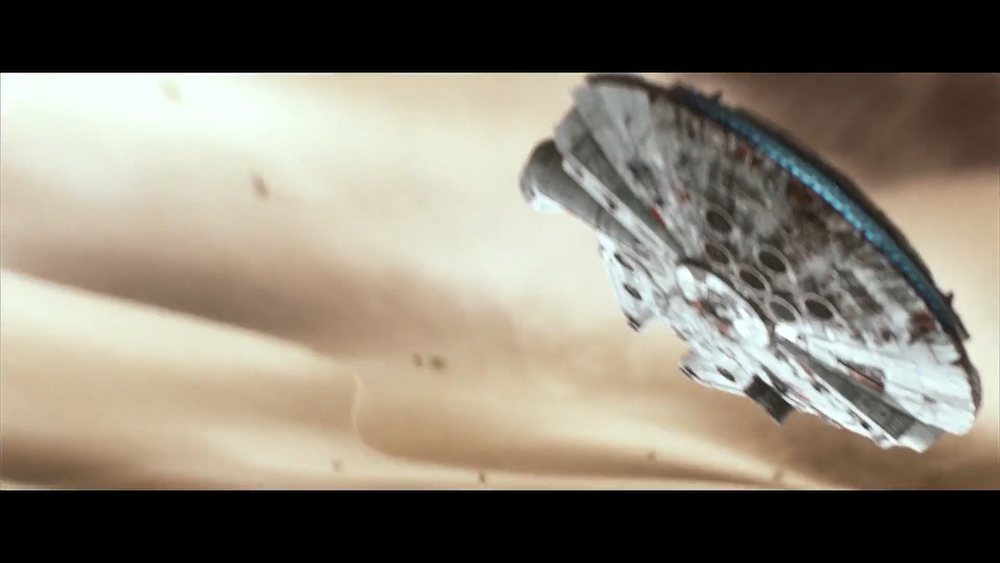Millennium Falcon: (519, 76, 983, 455)
